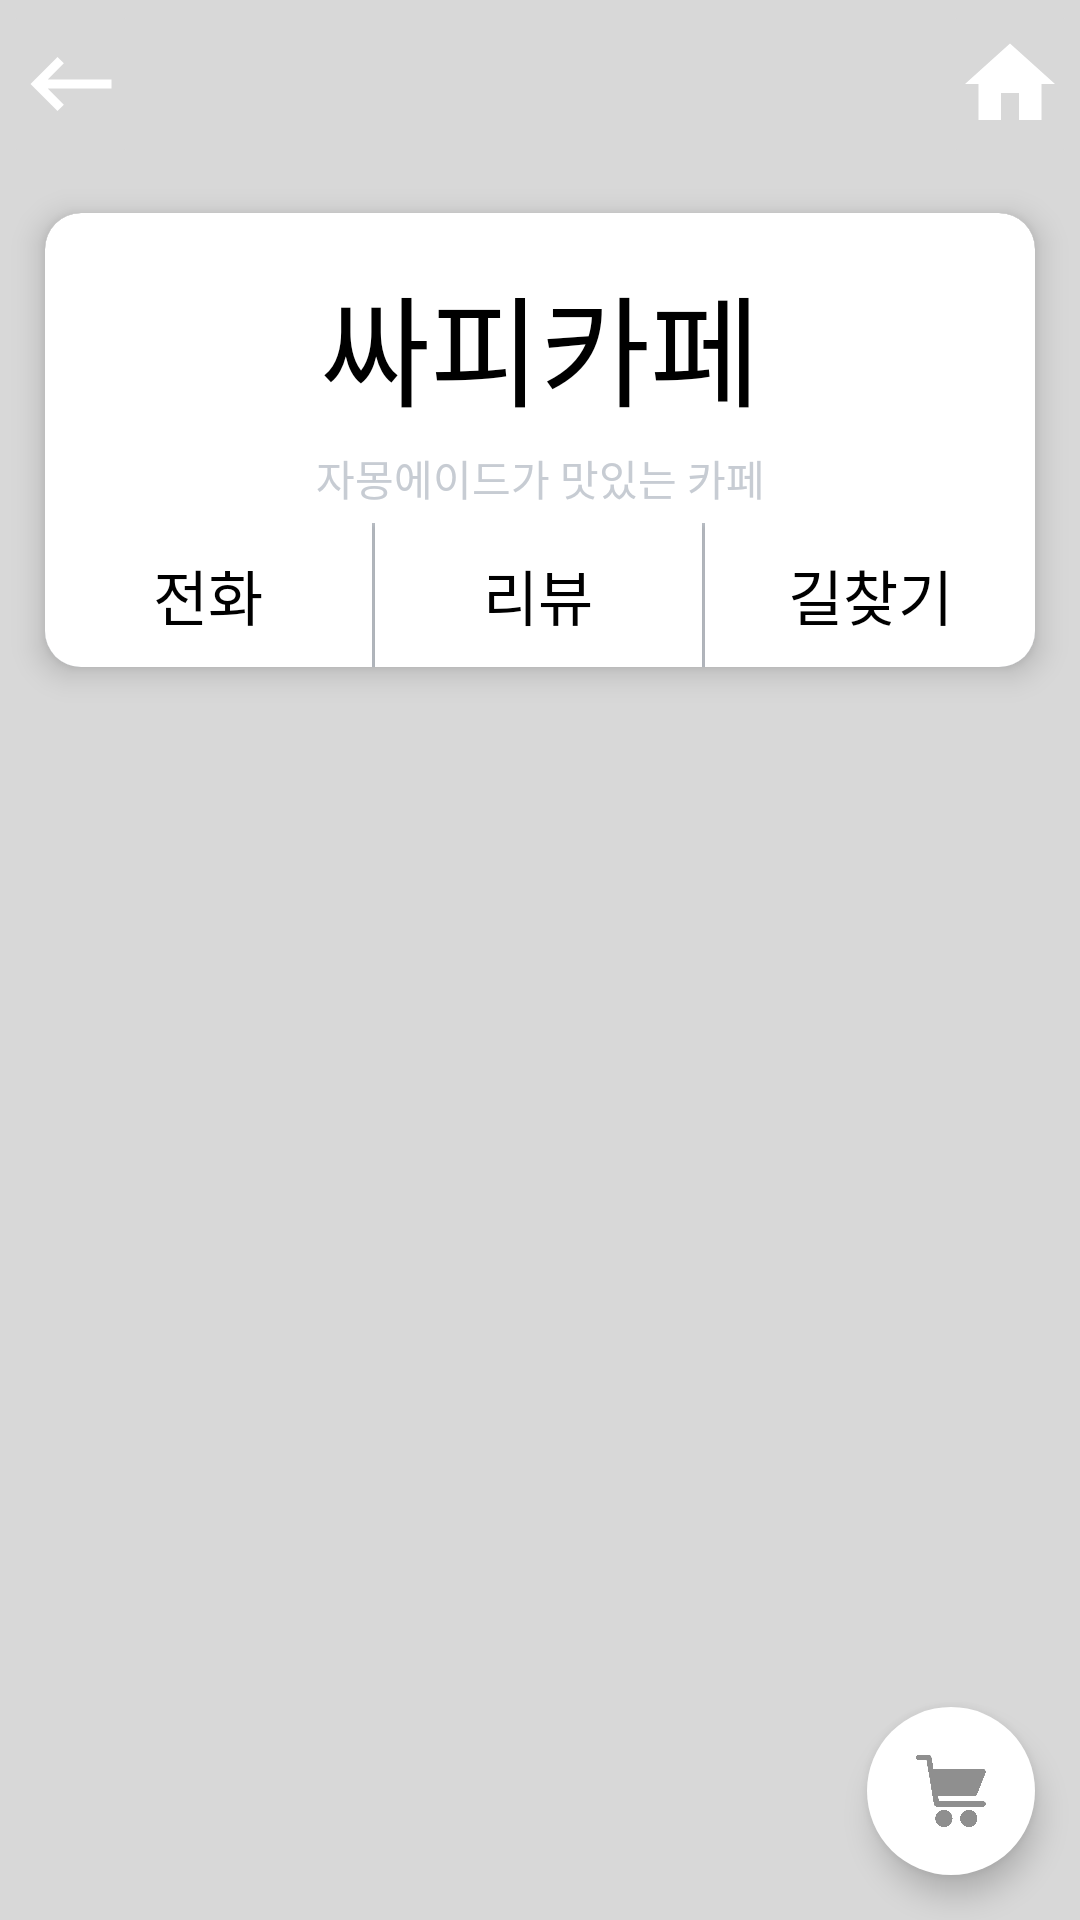

Where to tap for icons on this 1080px x 1920px app screen, as (x=x, y=y):
home: (x=1010, y=82)
shopping cart: (x=951, y=1791)
